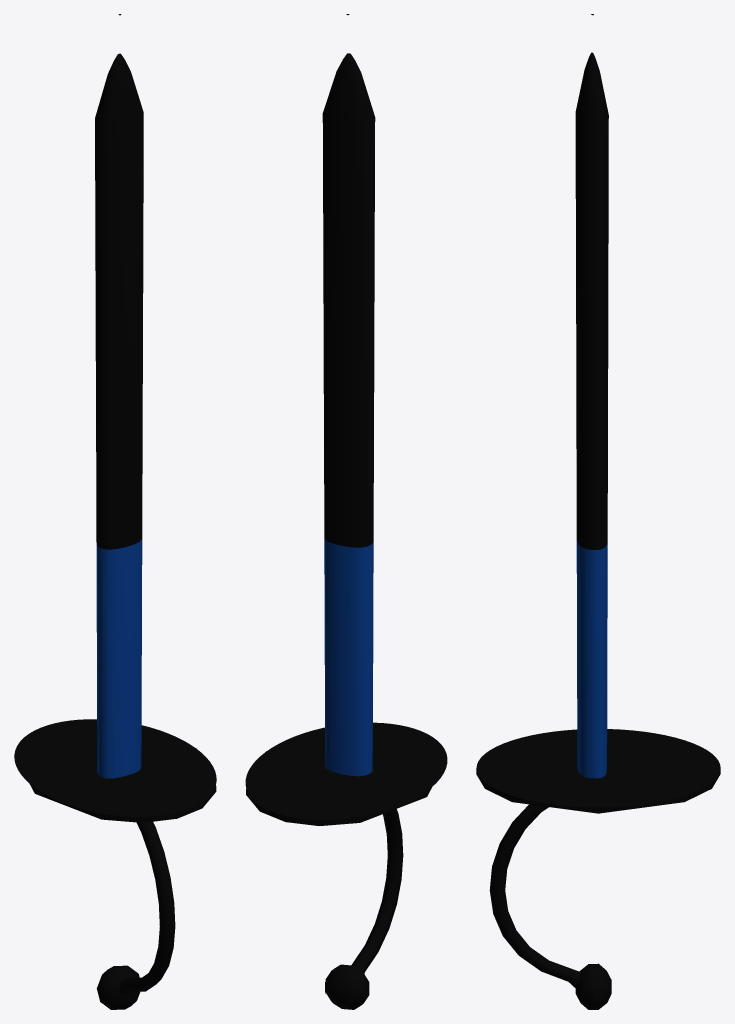
File: spada_2.obj
The picture shows the model from 3 angles, left to right: view 1: azimuth 30°, elevation 25°; view 2: azimuth 150°, elevation 25°; view 3: azimuth 270°, elevation 25°; orthographic projection.
Parts seen in each view (by area): view 1: object_1, object_2, object_5, object_8, object_13, object_12, object_3; view 2: object_1, object_2, object_5, object_8, object_13, object_12, object_3; view 3: object_1, object_5, object_8, object_2, object_13, object_12, object_4.
Part boxes in pixels (bbox=[...]): object_1: bbox=[95, 53, 143, 549]; object_2: bbox=[96, 539, 142, 778]; object_5: bbox=[15, 719, 215, 816]; object_8: bbox=[14, 719, 216, 816]; object_13: bbox=[119, 821, 175, 995]; object_12: bbox=[96, 965, 140, 1009]; object_3: bbox=[30, 784, 202, 822]; object_1: bbox=[322, 53, 375, 547]; object_2: bbox=[324, 538, 373, 776]; object_5: bbox=[246, 722, 446, 820]; object_8: bbox=[245, 722, 447, 820]; object_13: bbox=[351, 809, 403, 973]; object_12: bbox=[325, 964, 369, 1009]; object_3: bbox=[260, 787, 431, 825]; object_1: bbox=[575, 52, 608, 549]; object_5: bbox=[476, 730, 719, 806]; object_8: bbox=[476, 729, 720, 807]; object_2: bbox=[576, 540, 607, 778]; object_13: bbox=[489, 804, 580, 988]; object_12: bbox=[575, 963, 611, 1009]; object_4: bbox=[476, 768, 711, 813].
Size of the model in its own units: 1.53 by 8.98 by 2.
